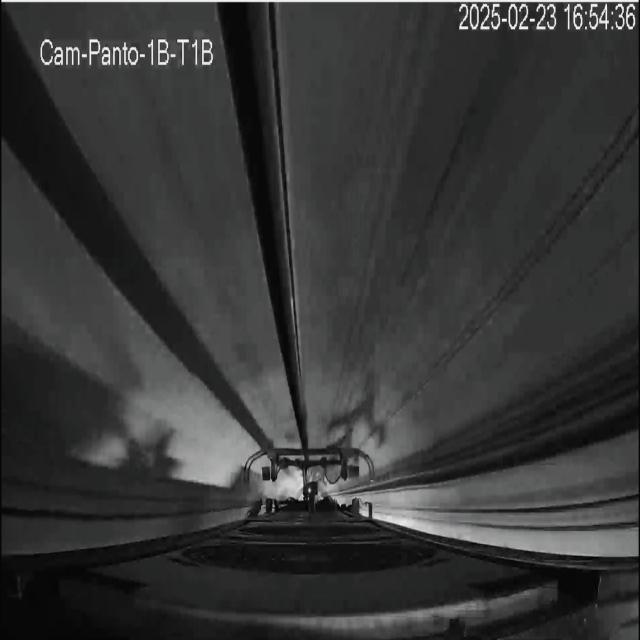Camera Stamp: (34, 28, 221, 71)
Date Stamp: (456, 2, 636, 34)
No - Spark: (244, 445, 374, 518)
